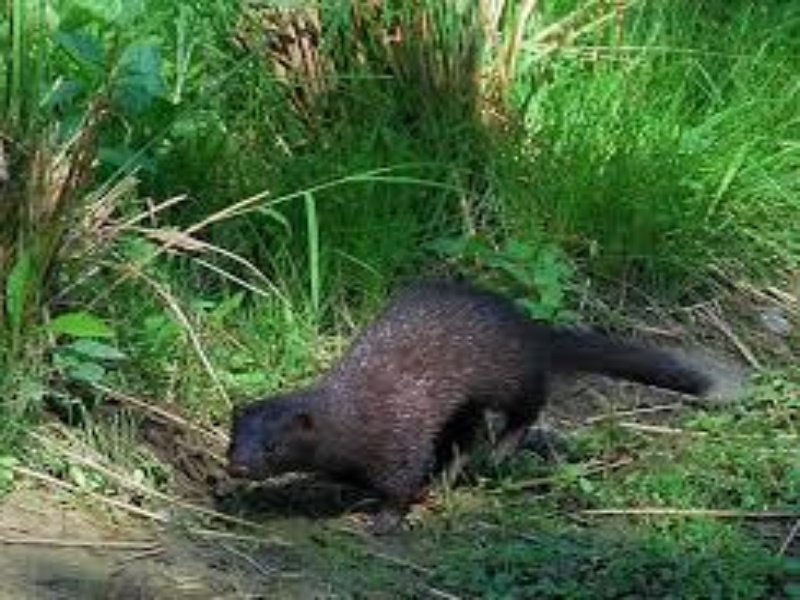minkish: (224, 273, 716, 539)
